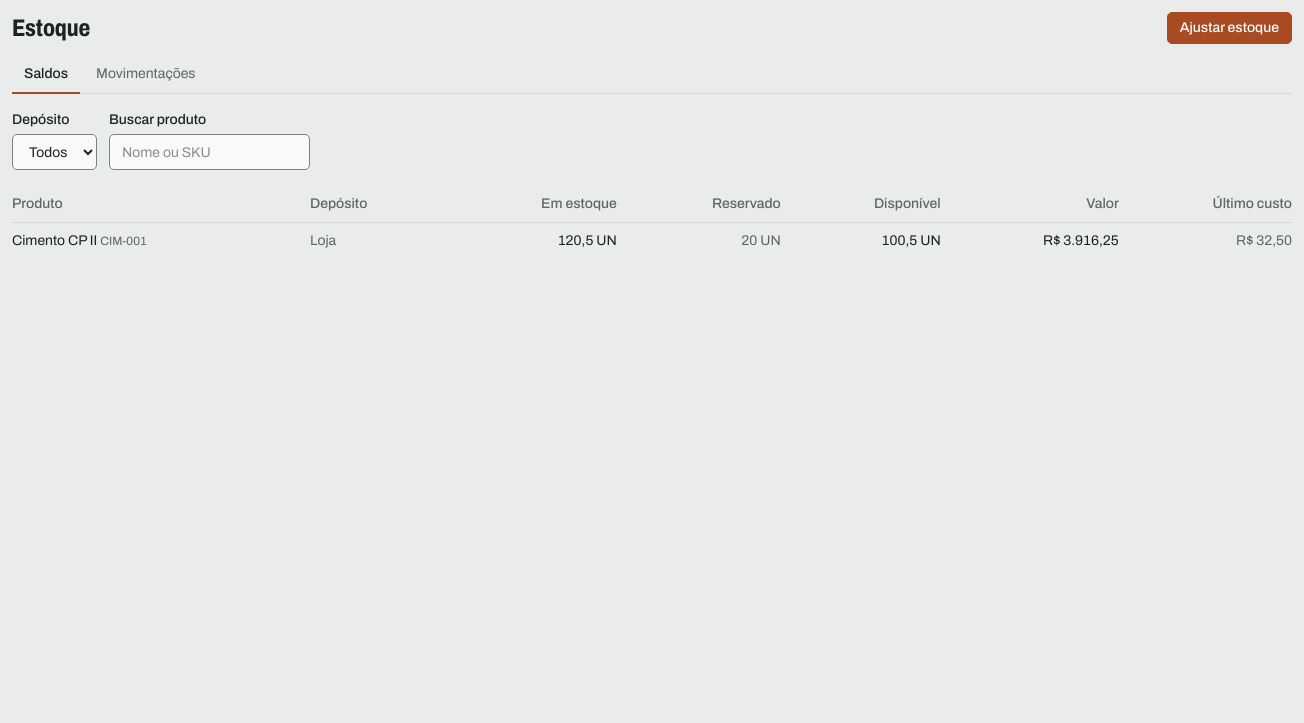
Test: StockScreen › the count adjustment › explains a reason that disagrees with the direction, on the reason field
Click the button "Ajustar estoque" at (1229, 28), box [1167,12,1292,44]
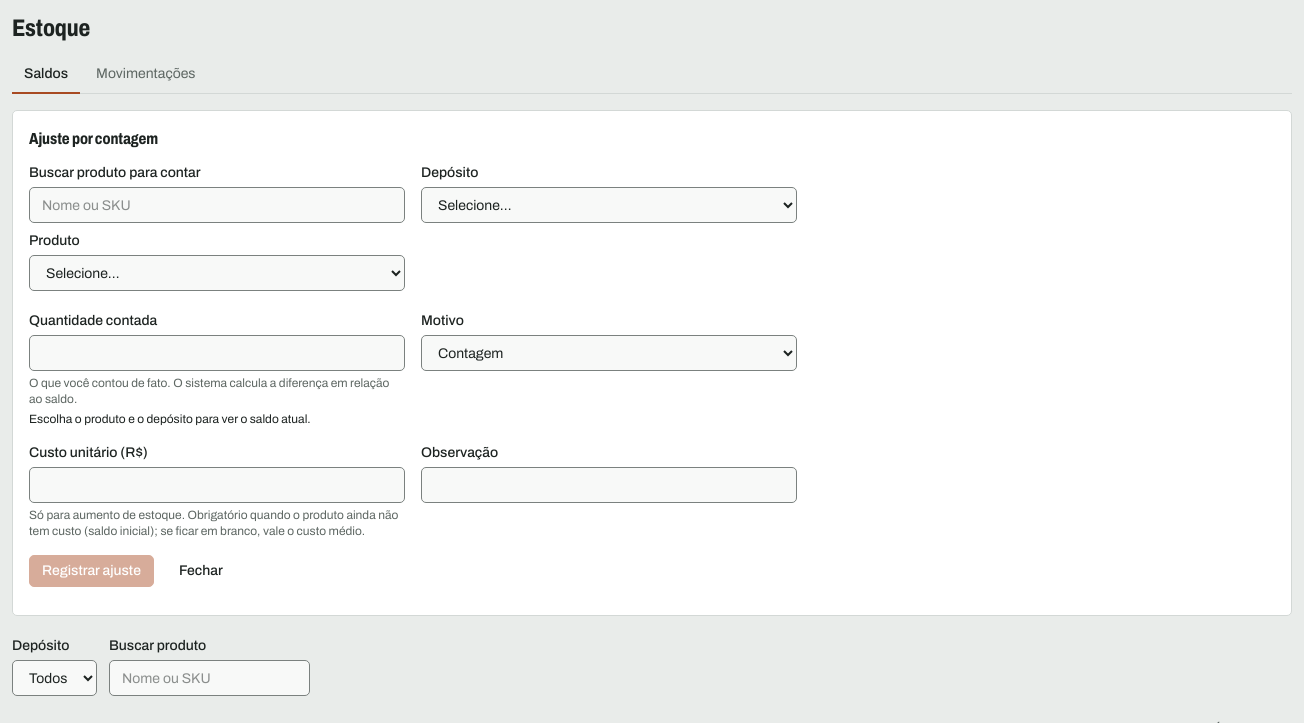
Select "Cimento CP II (CIM-001)" in the dropdown labelled "Produto" at (217, 273), box [29,255,405,291]
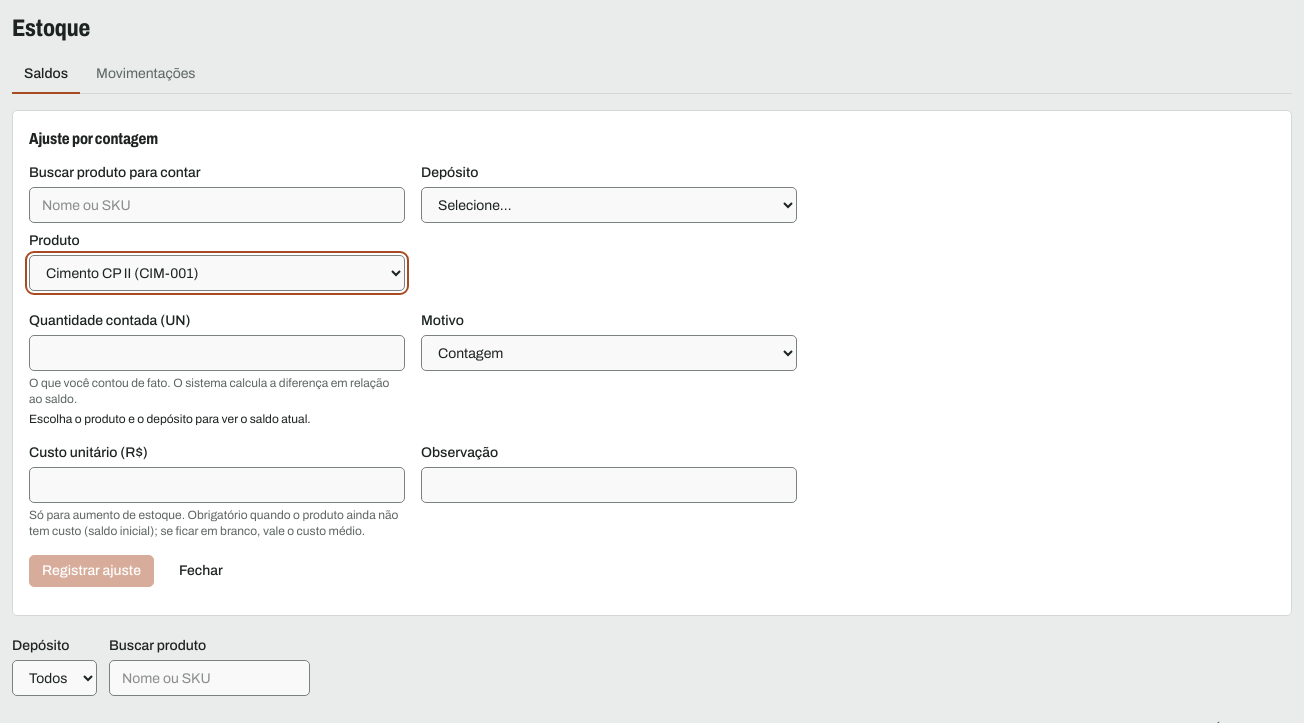
Select "Loja" in the dropdown labelled "Depósito" below "Buscar produto para contar" at (609, 205), box [421,187,797,223]
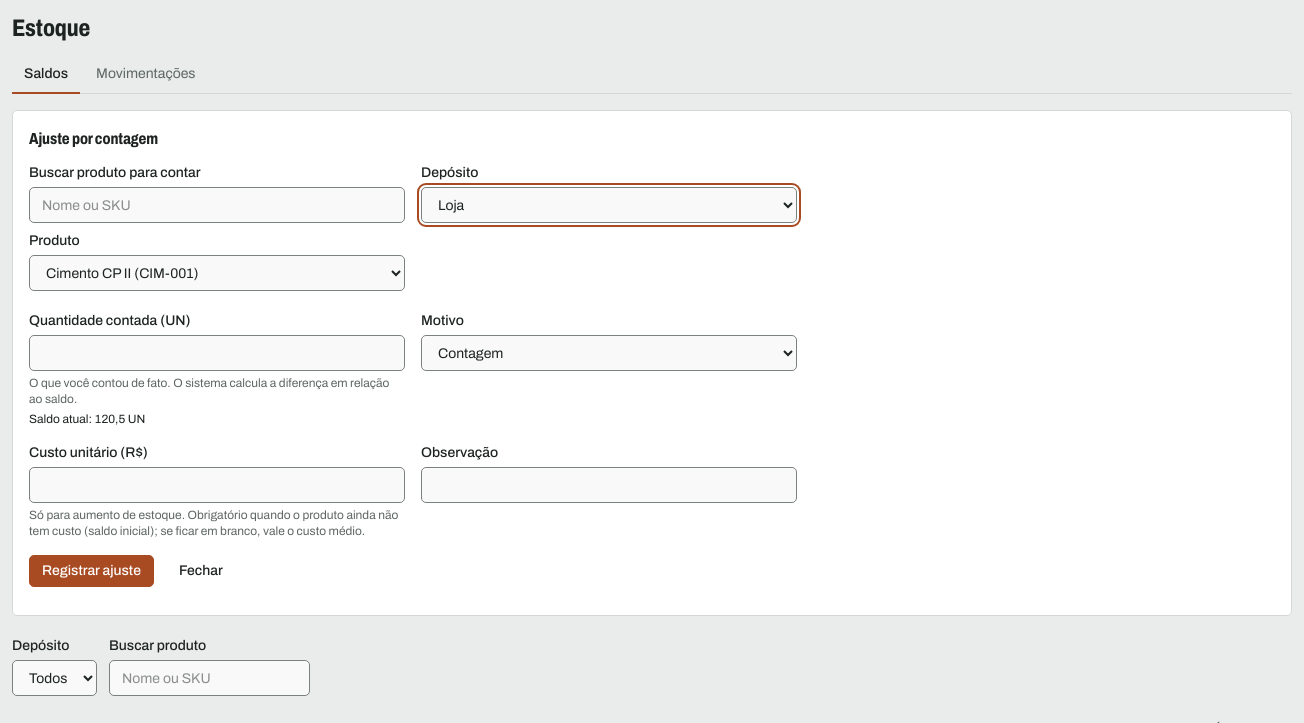
Check: the text "Saldo atual: 120,5 UN" is shown, box [29,412,145,426]
Type "200" into the field labelled "Quantidade contada (UN)" at (217, 353), box [29,335,405,371]
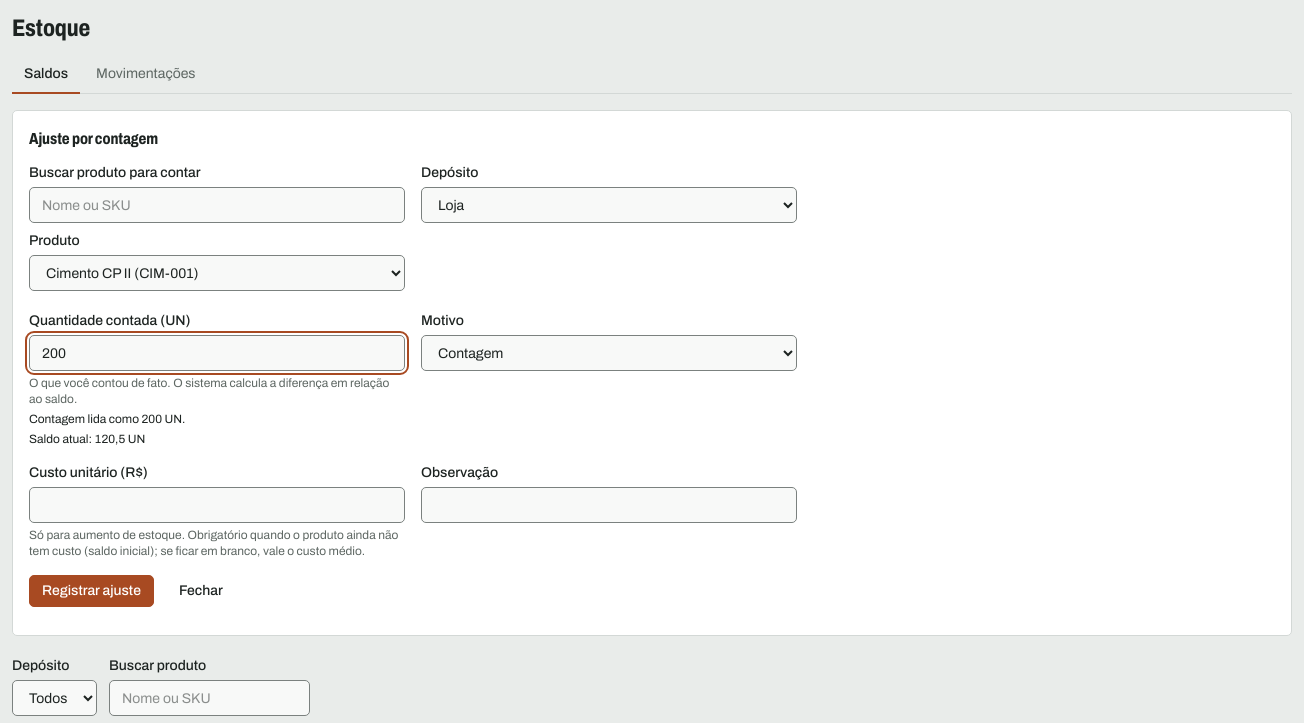
Select "Furto" in the dropdown labelled "Motivo" at (609, 353), box [421,335,797,371]
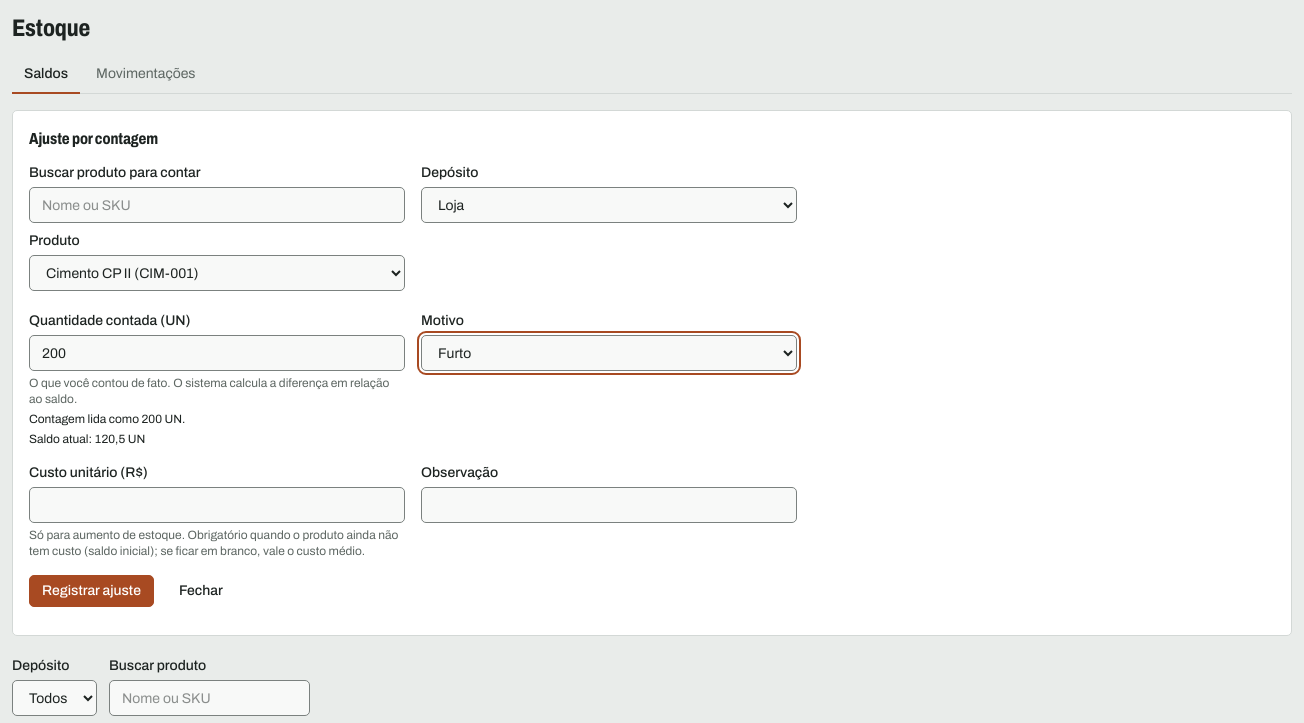
Click the button "Registrar ajuste" at (91, 591), box [29,575,154,607]
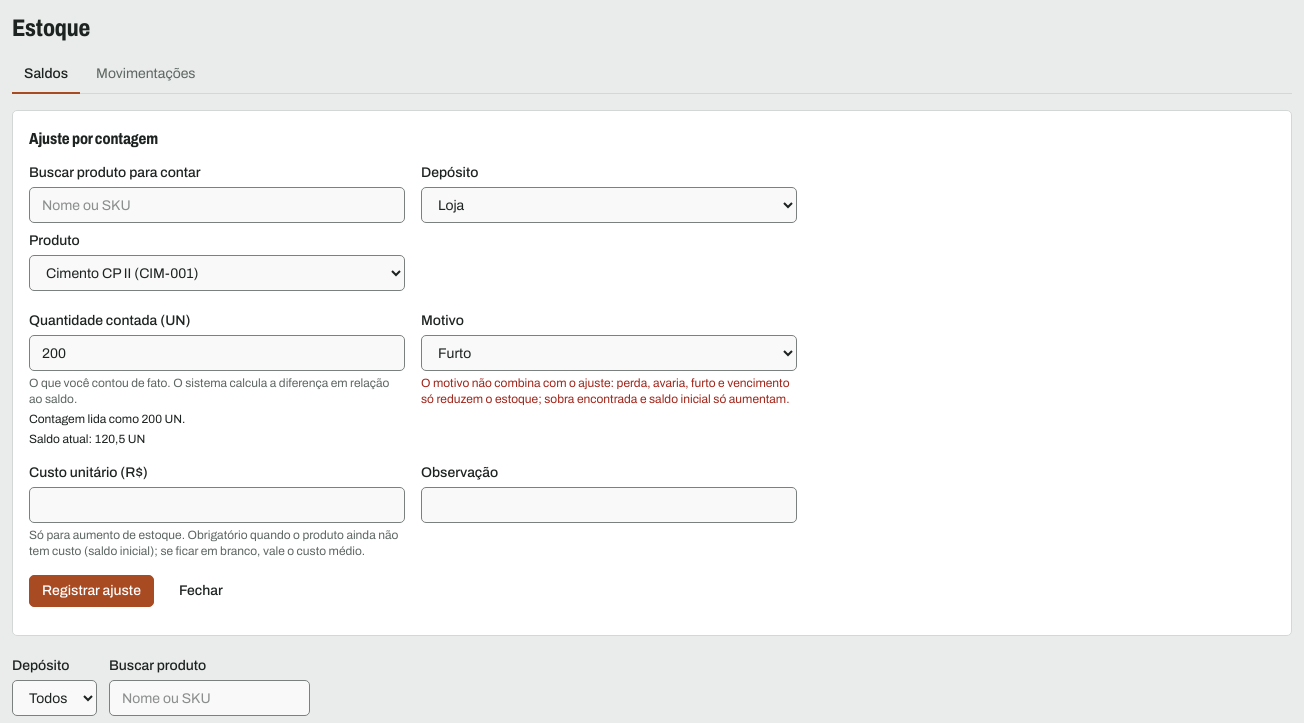
Check: the text "perda, avaria, furto e vencimento só reduzem" is shown, box [421,376,790,406]
